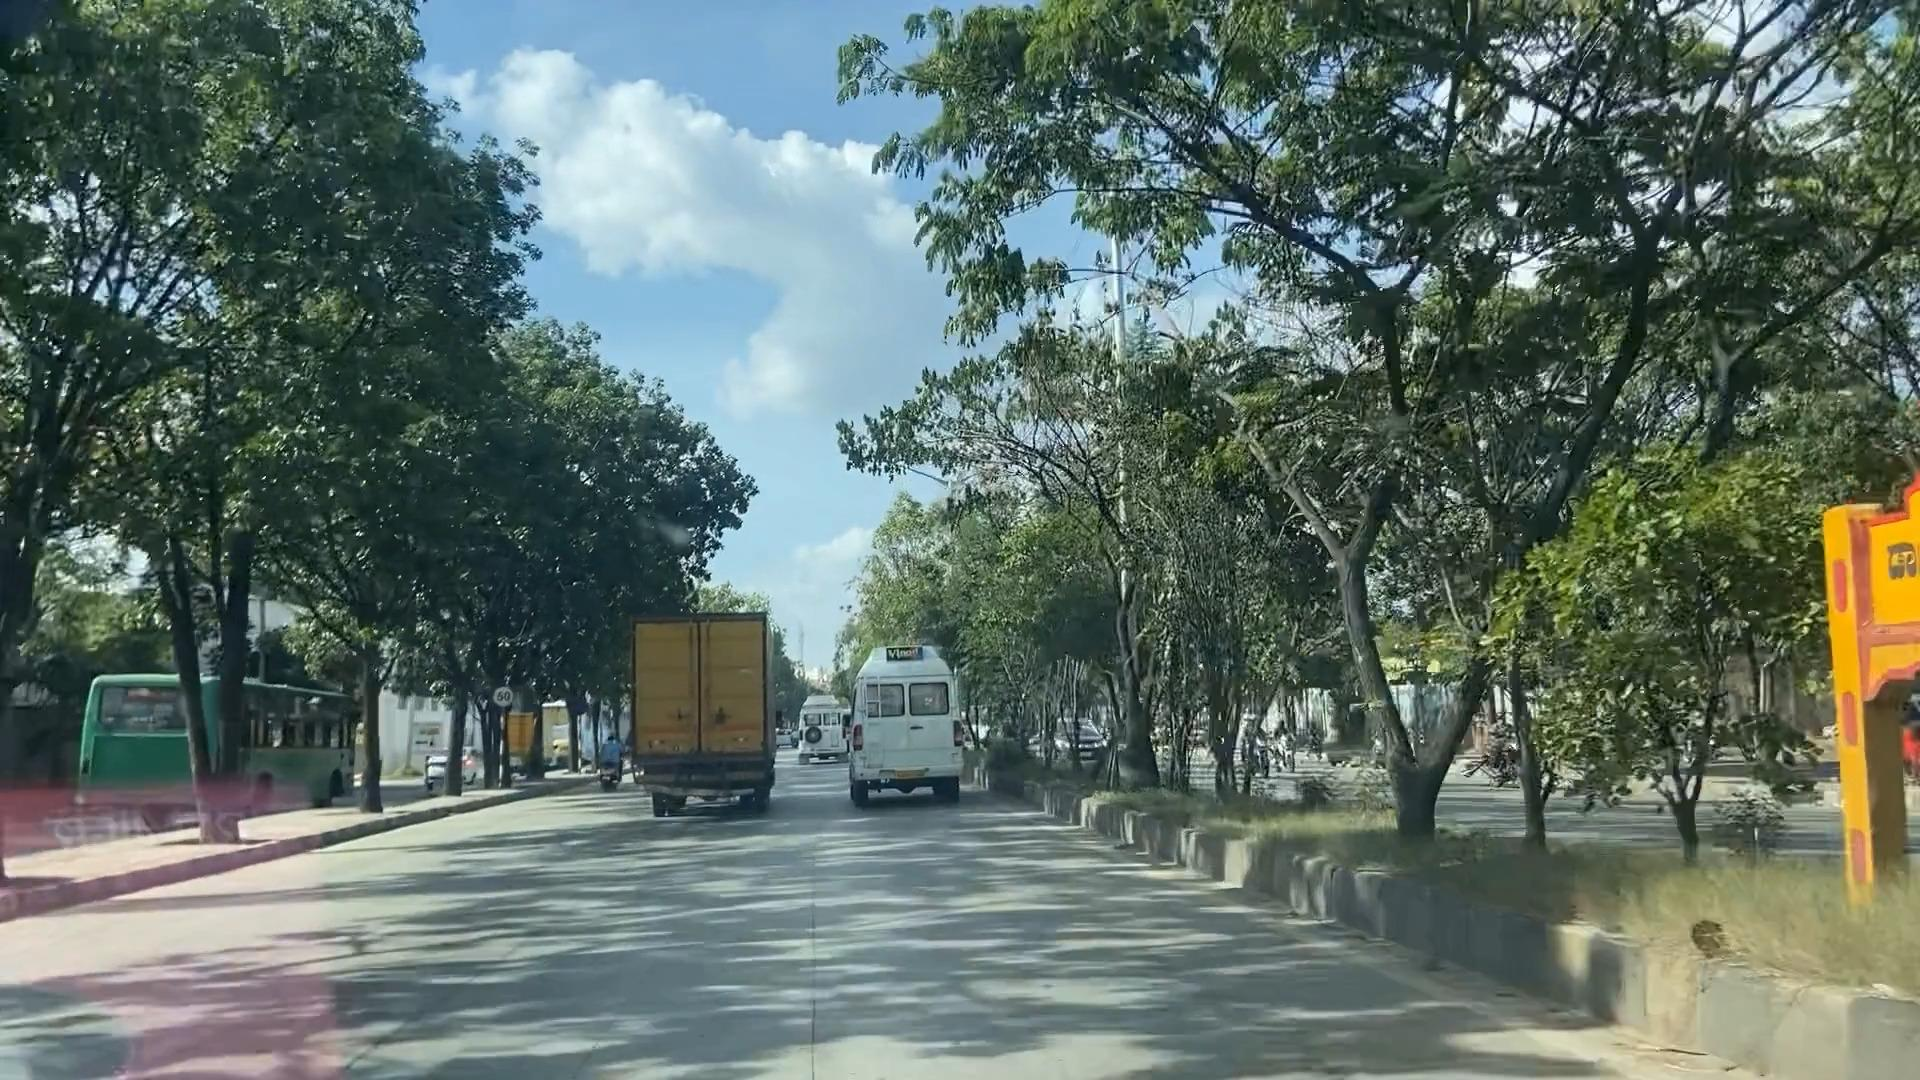HMV: (624, 612, 773, 802), (843, 638, 963, 798)
